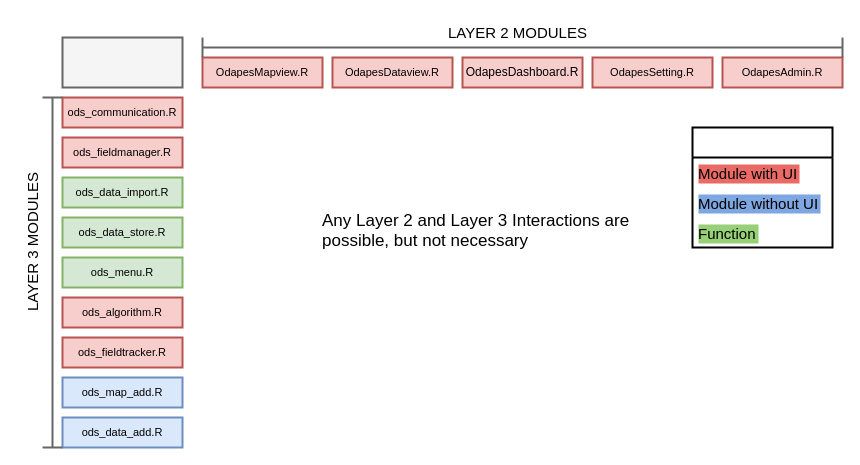
This 860x465 diagram has some shape labels left out. Here are the shapes that lost their labels. From the top down, the box of each, then its label:
(61, 36, 183, 88): LAYER 1 app.R
(691, 126, 833, 248): Legend
